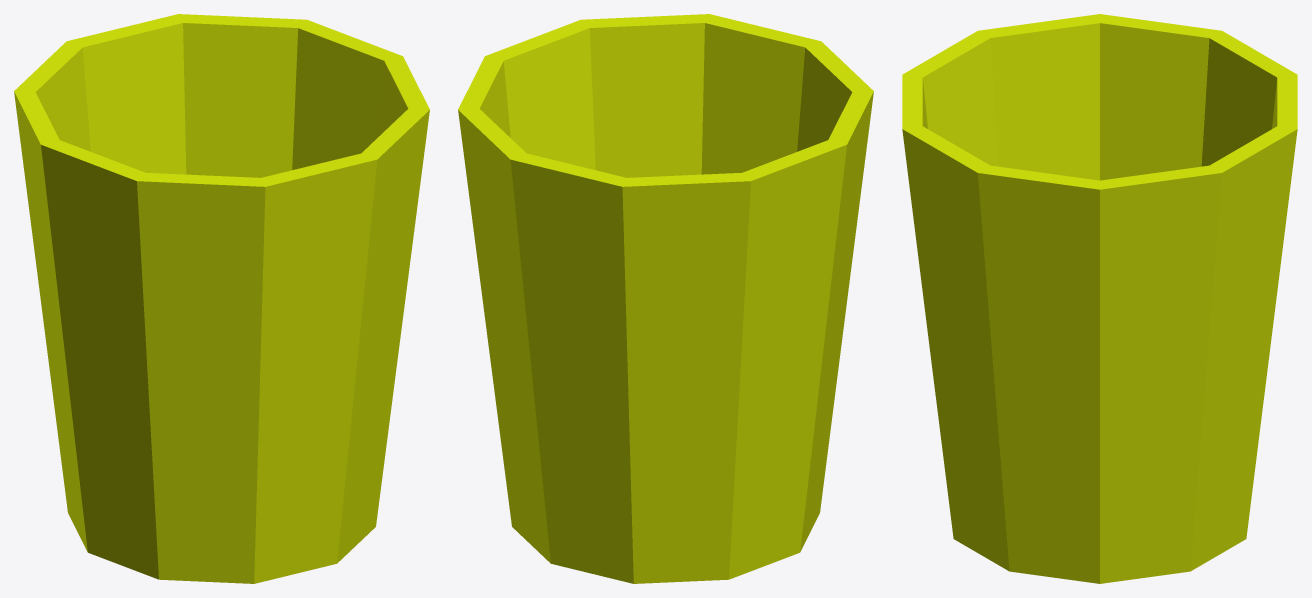
File: Empty_Trash_Can.fbx
The picture shows the model from 3 angles, left to right: view 1: azimuth 30°, elevation 25°; view 2: azimuth 150°, elevation 25°; view 3: azimuth 270°, elevation 25°; orthographic projection.
Visible parts, largest first — view 1: Empty trashcan; view 2: Empty trashcan; view 3: Empty trashcan.
Boxes of the visible parts, x1,y1,x2,y2 form: Empty trashcan: (14, 14, 429, 583); Empty trashcan: (458, 14, 873, 583); Empty trashcan: (902, 14, 1297, 583).
Size of the model in its own units: 20.26 by 22.42 by 19.27.
